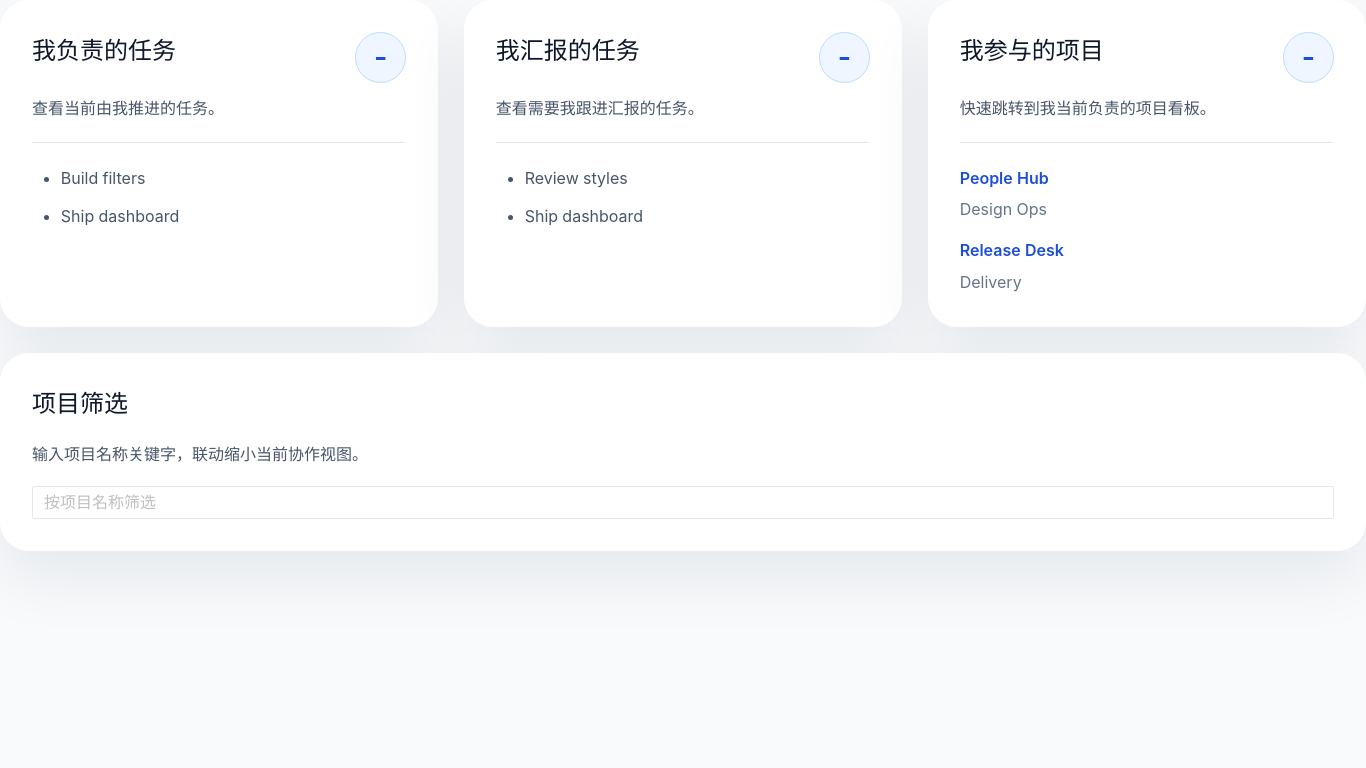
Test: supports collapsing panels and filtering by project keyword
The width and height of the screenshot is (1366, 768).
Expected: the list item "Build filters" is shown, [61,168,145,188]
Type "People" into the field with placeholder "按项目名称筛选" at (683, 502), box [32,486,1334,519]
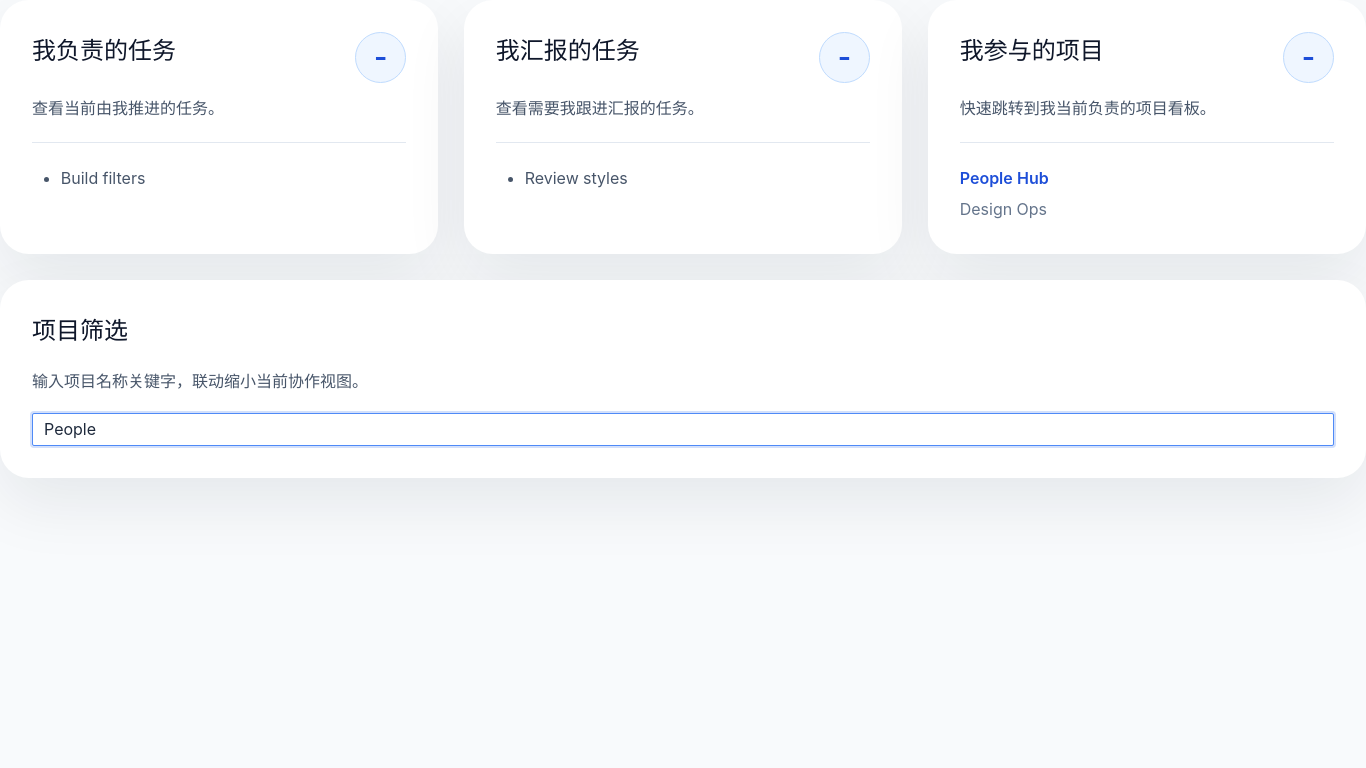
Expected: the list item "Build filters" is shown, [61,168,145,188]
Now the list item "Ship dashboard" is gone
Click the button named "收起我负责的任务" at (381, 58), box [355,32,406,83]
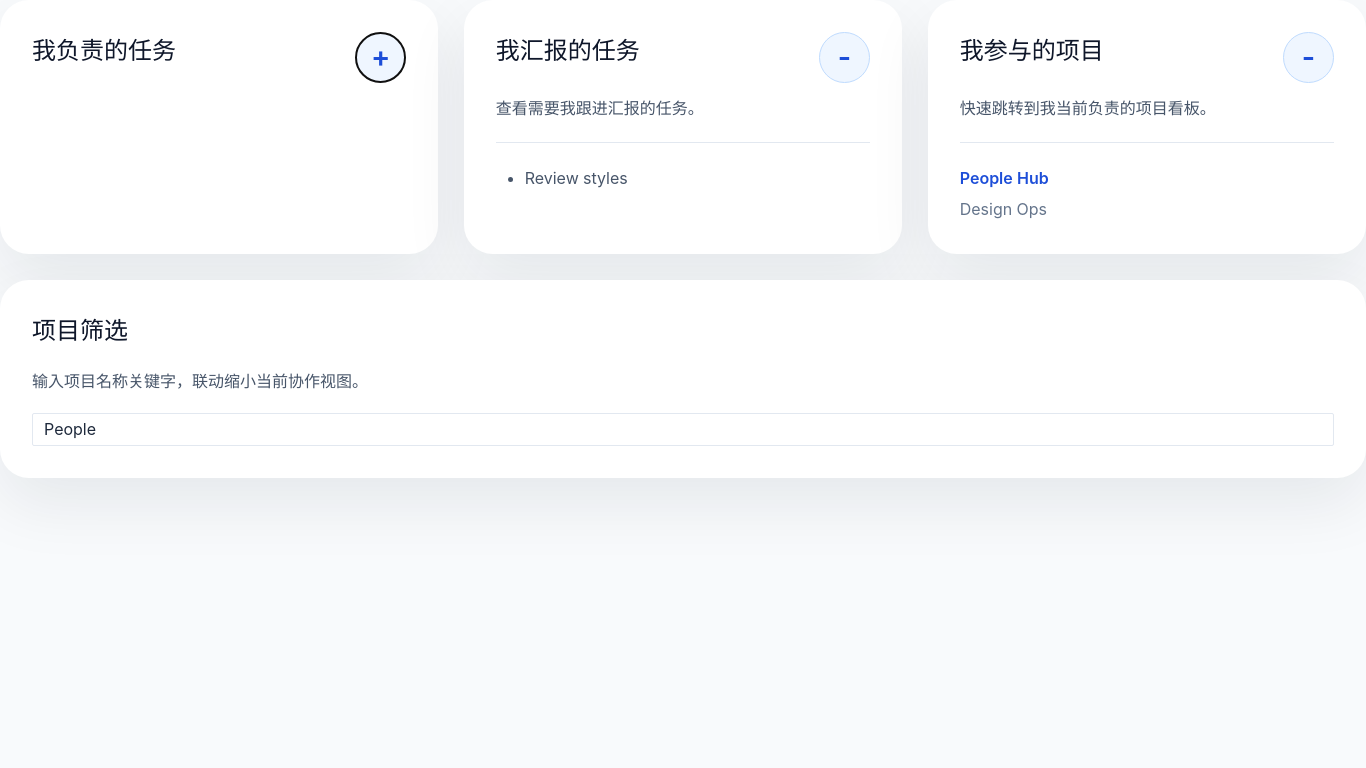
Now the list item "Build filters" is gone
Now the button named "展开我负责的任务" is collapsed, box [355,32,406,83]
